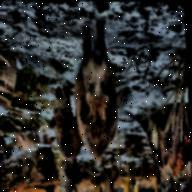boar: (71, 26, 125, 168), (47, 87, 81, 166)
